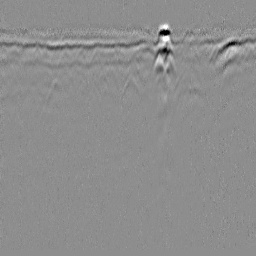cavity: (118, 71, 141, 104)
